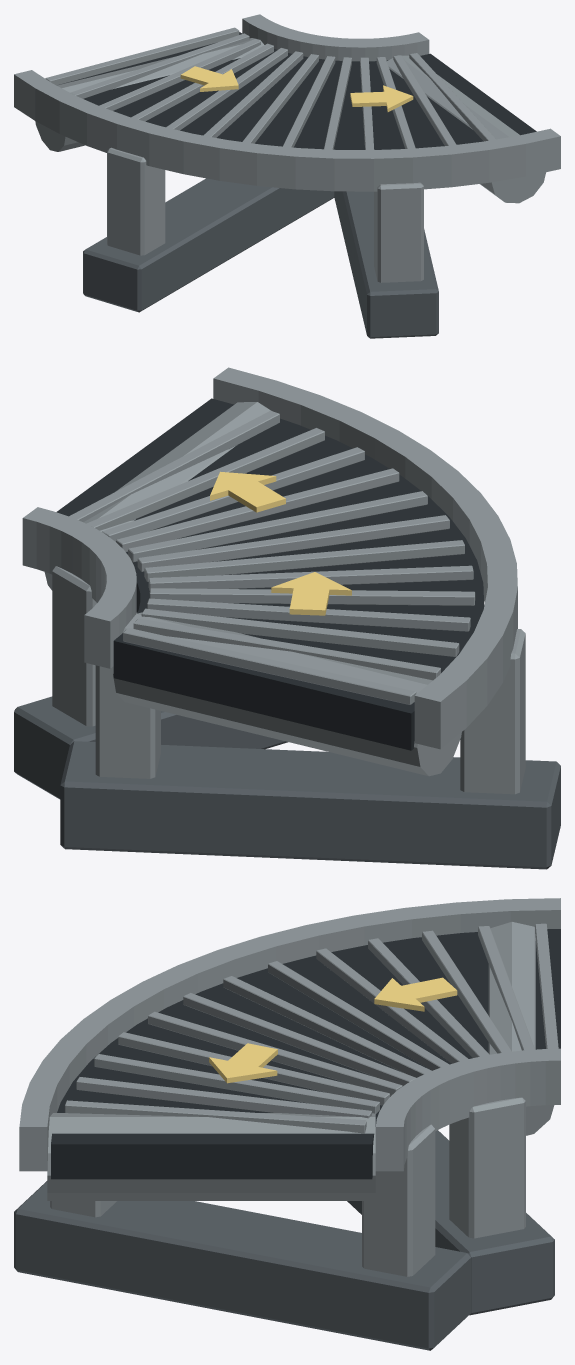
Rendered from belt-turn-left-mk1.glb.
3 renders of one model, top to bottom at view 1: azimuth 30°, elevation 25°; view 2: azimuth 150°, elevation 25°; view 3: azimuth 270°, elevation 25°, orthographic. The views are drawn at different scales.
Parts seen in each view (by area): view 1: belt-turn-left / Machined steel, belt-turn-left / Graphite enamel, belt-turn-left / Recesses and belt, belt-turn-left / Gold outlet markings; view 2: belt-turn-left / Machined steel, belt-turn-left / Graphite enamel, belt-turn-left / Recesses and belt, belt-turn-left / Gold outlet markings; view 3: belt-turn-left / Machined steel, belt-turn-left / Graphite enamel, belt-turn-left / Recesses and belt, belt-turn-left / Gold outlet markings.
Boxes of the visible parts, x1,y1,x2,y2 form: belt-turn-left / Machined steel: (14, 14, 560, 282); belt-turn-left / Graphite enamel: (83, 178, 438, 338); belt-turn-left / Recesses and belt: (63, 32, 536, 149); belt-turn-left / Gold outlet markings: (180, 66, 413, 111); belt-turn-left / Machined steel: (22, 367, 525, 794); belt-turn-left / Graphite enamel: (14, 696, 560, 869); belt-turn-left / Recesses and belt: (56, 398, 484, 750); belt-turn-left / Gold outlet markings: (210, 471, 351, 615); belt-turn-left / Machined steel: (19, 898, 560, 1276); belt-turn-left / Graphite enamel: (14, 1130, 554, 1350); belt-turn-left / Recesses and belt: (51, 929, 560, 1179); belt-turn-left / Gold outlet markings: (209, 977, 457, 1083).
Bounding box in the file's own units: 0.7828 × 0.363 × 0.7828.
